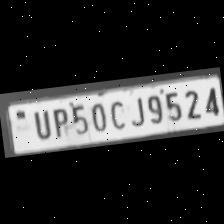0: (86, 99, 109, 134)
2: (180, 86, 202, 121)
4: (198, 83, 221, 117)
5: (160, 88, 183, 123), (66, 101, 89, 135)
9: (142, 90, 164, 126)
C: (104, 96, 126, 131)
J: (125, 93, 147, 127)
P: (48, 105, 70, 138)
U: (28, 108, 52, 140)
